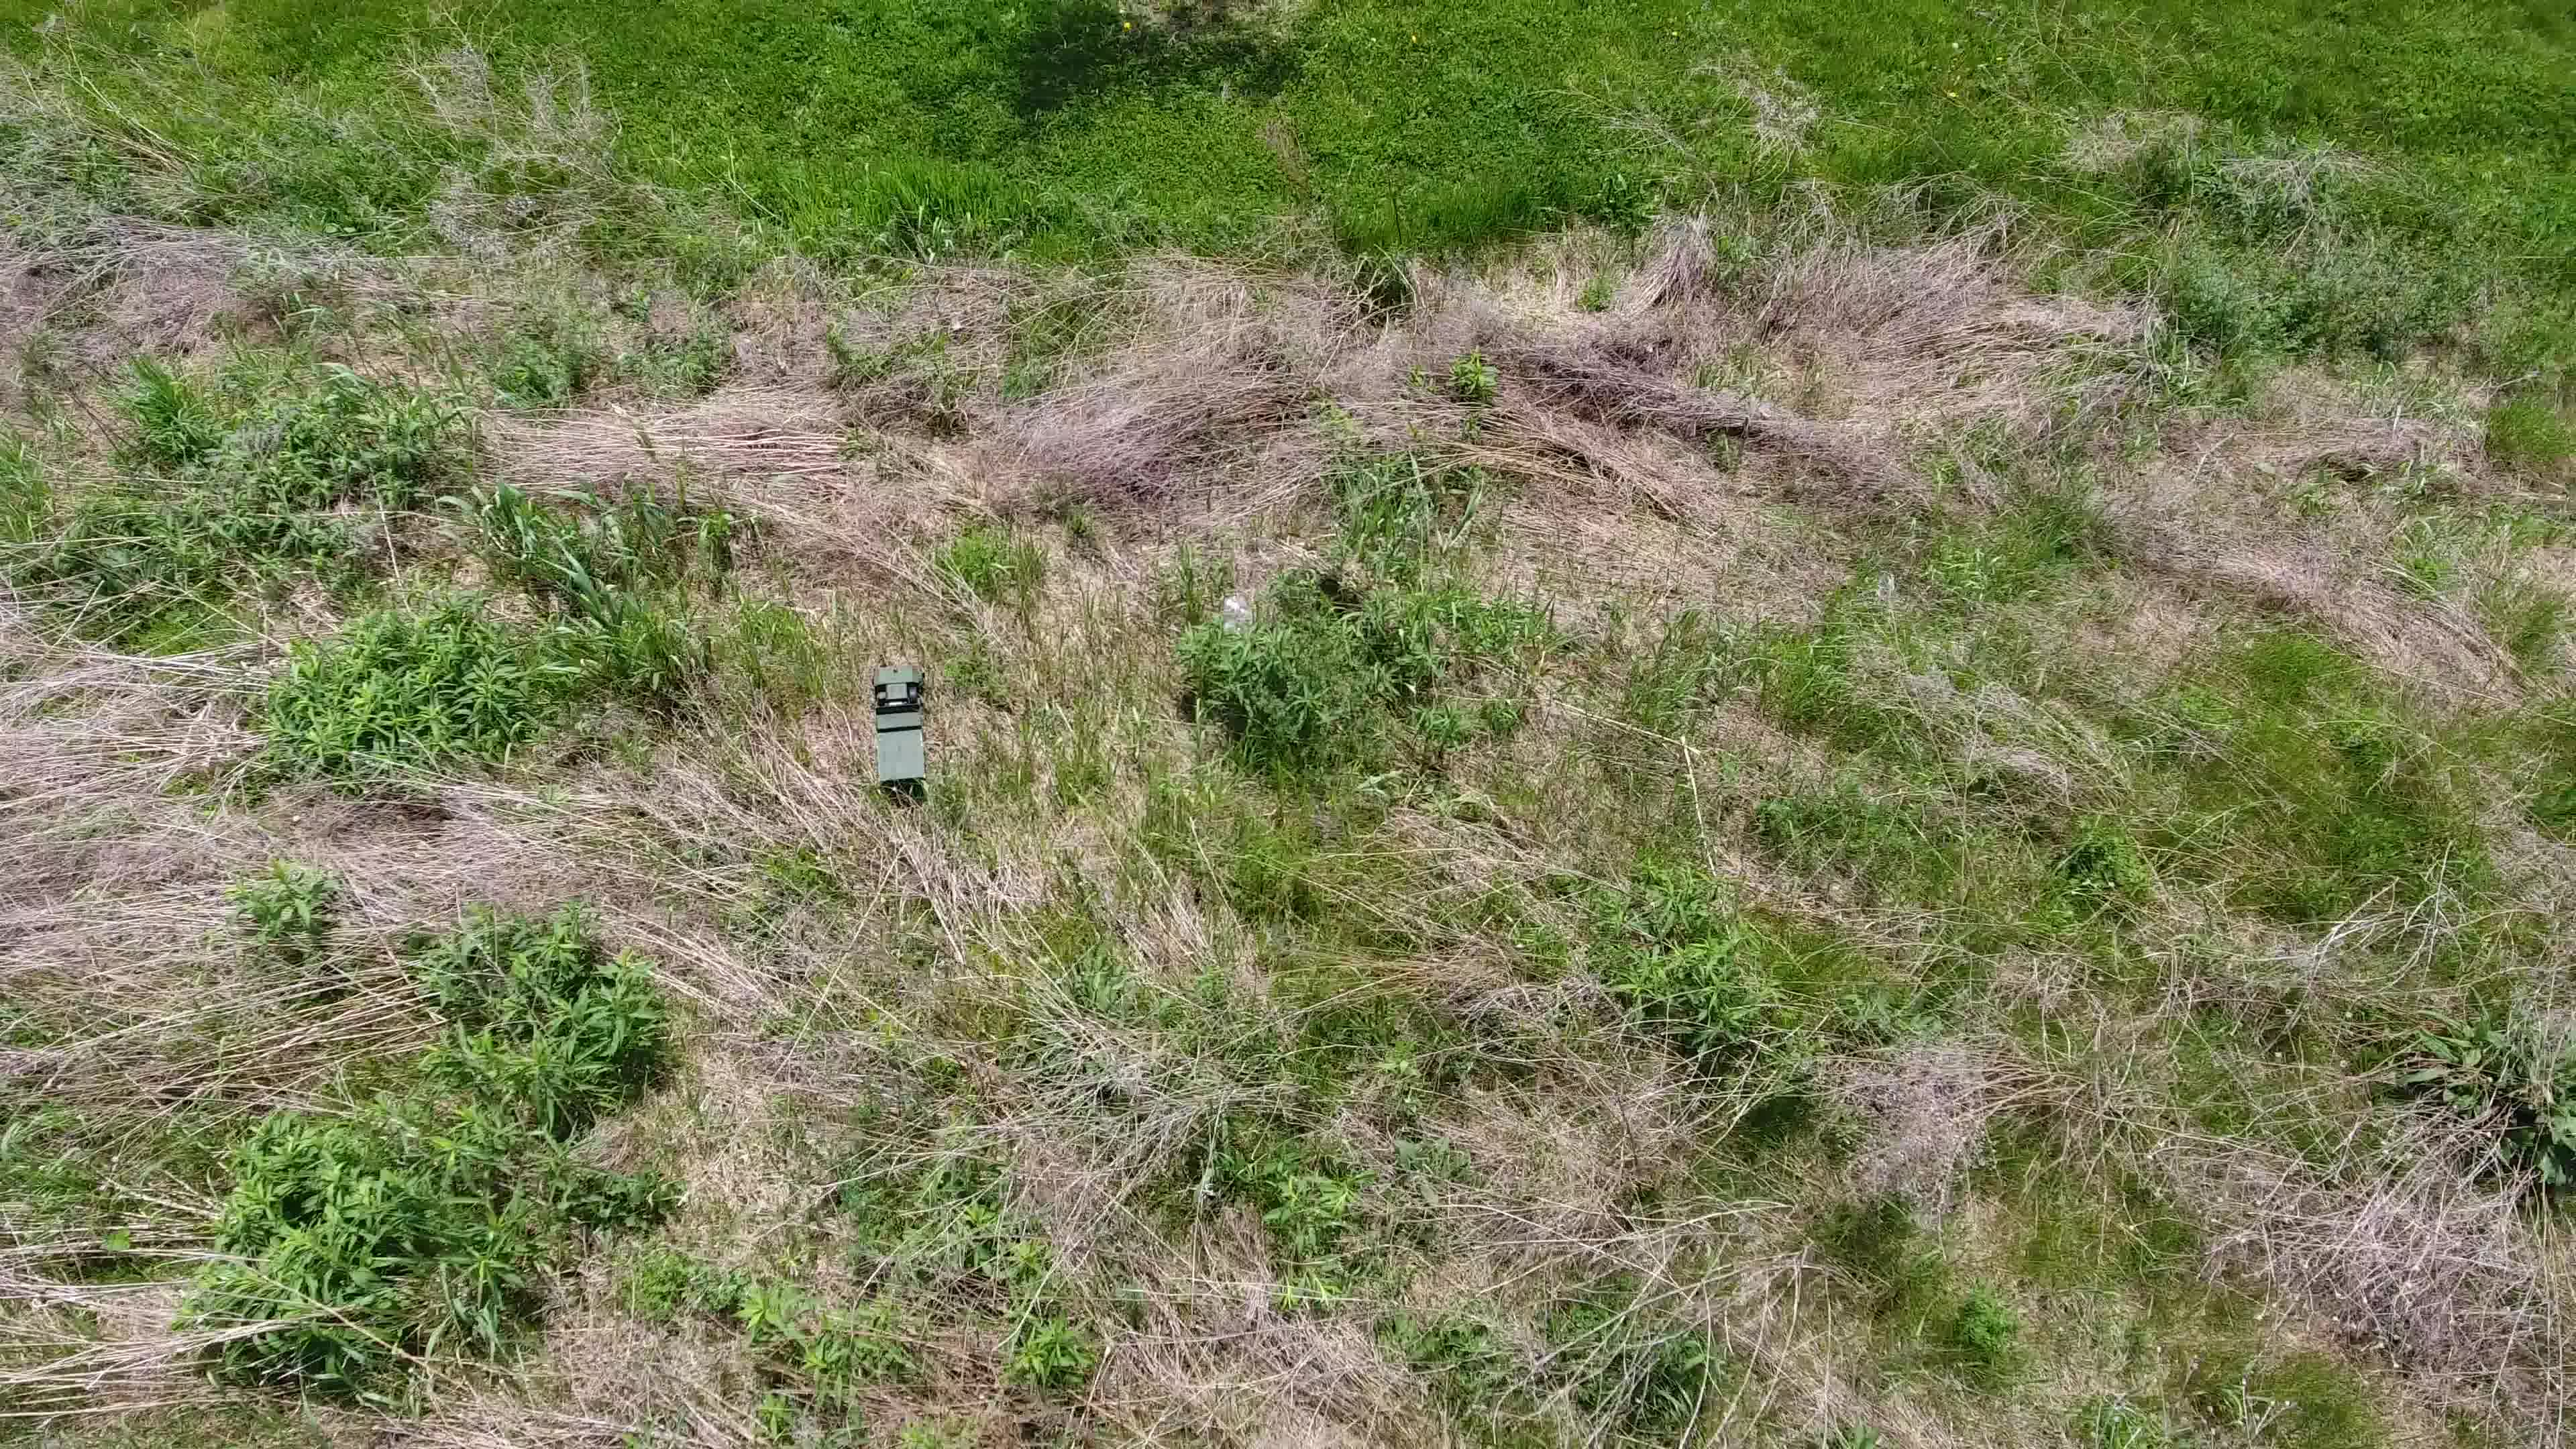transporter9: (870, 660, 931, 786)
